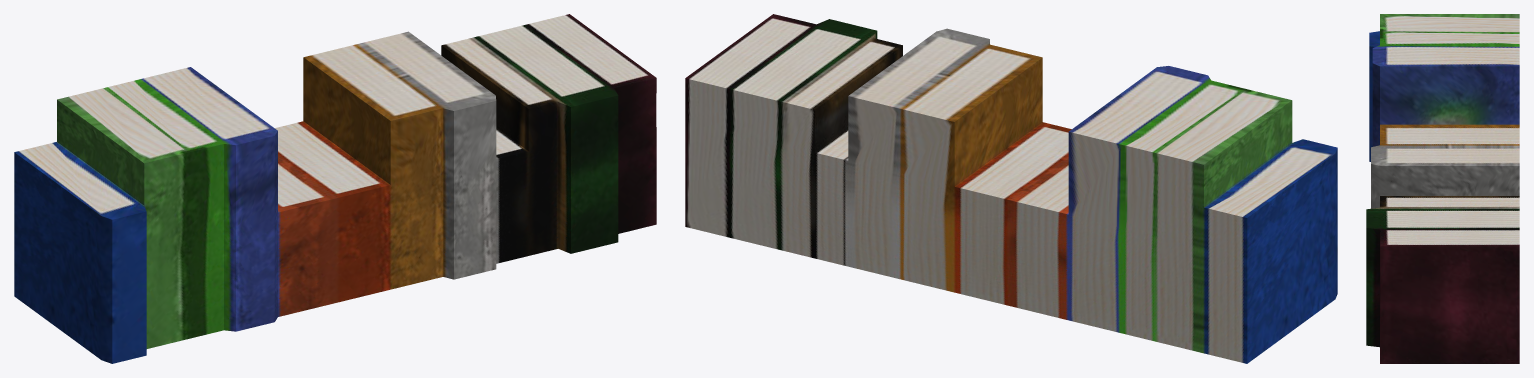
The model's file is BookRow01_vi.fbx.
The picture shows the model from 3 angles, left to right: view 1: azimuth 30°, elevation 25°; view 2: azimuth 150°, elevation 25°; view 3: azimuth 270°, elevation 25°; orthographic projection. The views are drawn at different scales.
Visible parts, largest first — view 1: BookRow1; view 2: BookRow1; view 3: BookRow1.
Boxes of the visible parts, x1=… form: BookRow1: x1=14, y1=14, x2=656, y2=363; BookRow1: x1=685, y1=14, x2=1337, y2=363; BookRow1: x1=1366, y1=14, x2=1519, y2=363.
Size of the model in its own units: 0.0151 by 0.00485 by 0.00451.
1 material, 1 textured.
